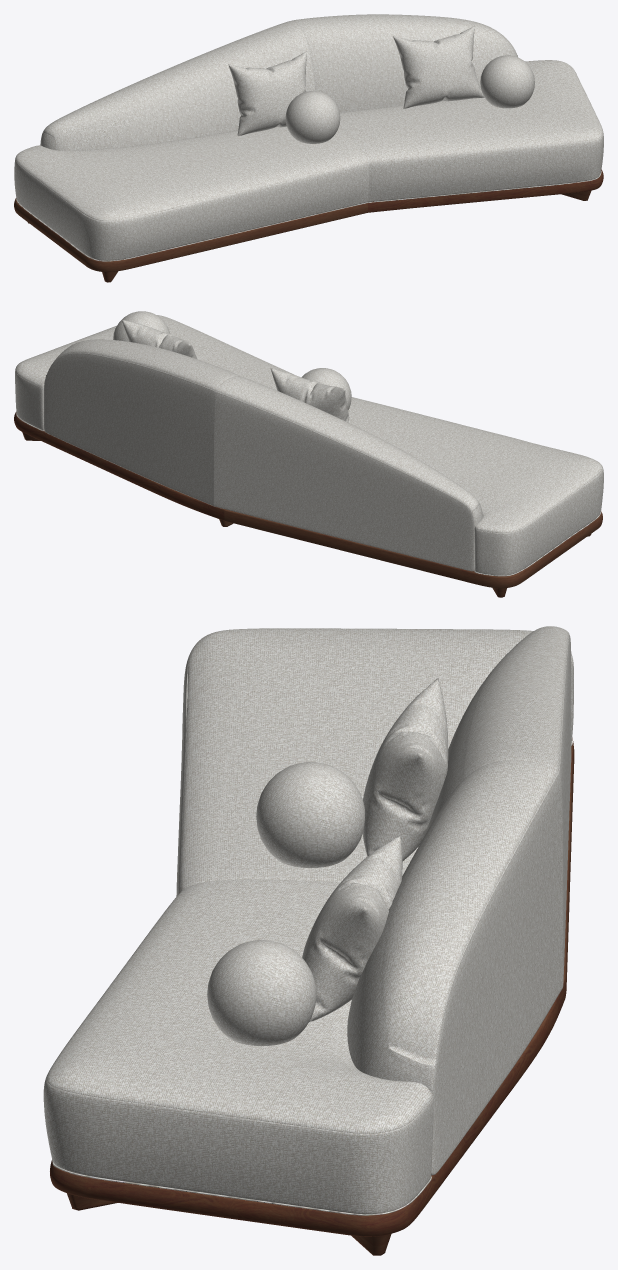
Rendered from Bossa-Straight-Larforma.glb.
3 renders of one model, top to bottom at view 1: azimuth 30°, elevation 25°; view 2: azimuth 150°, elevation 25°; view 3: azimuth 270°, elevation 25°, orthographic. The views are drawn at different scales.
Parts seen in each view (by area): view 1: Assento, Costa.001, Base, Cushions.004, Cushions.003, Sphere.001, Sphere, Assento.vivo.inferior; view 2: Costa.001, Assento, Base, Cushions.003, Cushions.004, Sphere.001, Sphere; view 3: Assento, Costa.001, Base, Cushions.003, Cushions.004, Sphere.001, Sphere, Assento.vivo.inferior.
Part boxes in pixels (left/top/right/bottom): Assento: left=14, top=60, right=603, bottom=260; Costa.001: left=40, top=14, right=517, bottom=150; Base: left=14, top=169, right=603, bottom=271; Cushions.004: left=393, top=25, right=484, bottom=108; Cushions.003: left=228, top=51, right=307, bottom=135; Sphere.001: left=480, top=55, right=534, bottom=108; Sphere: left=285, top=91, right=340, bottom=143; Assento.vivo.inferior: left=16, top=171, right=601, bottom=261; Costa.001: left=44, top=339, right=483, bottom=571; Assento: left=15, top=315, right=603, bottom=575; Base: left=14, top=412, right=602, bottom=588; Cushions.003: left=270, top=368, right=351, bottom=423; Cushions.004: left=122, top=320, right=197, bottom=358; Sphere.001: left=113, top=311, right=170, bottom=341; Sphere: left=301, top=368, right=351, bottom=410; Assento: left=43, top=628, right=573, bottom=1214; Costa.001: left=347, top=626, right=571, bottom=1175; Base: left=50, top=738, right=574, bottom=1236; Cushions.003: left=362, top=678, right=448, bottom=860; Cushions.004: left=302, top=835, right=402, bottom=1022; Sphere.001: left=207, top=940, right=316, bottom=1046; Sphere: left=256, top=762, right=364, bottom=867; Assento.vivo.inferior: left=52, top=738, right=572, bottom=1215.
Bounding box in the file's own units: 2.7 × 0.6862 × 1.2.
2 materials, 2 textured.
